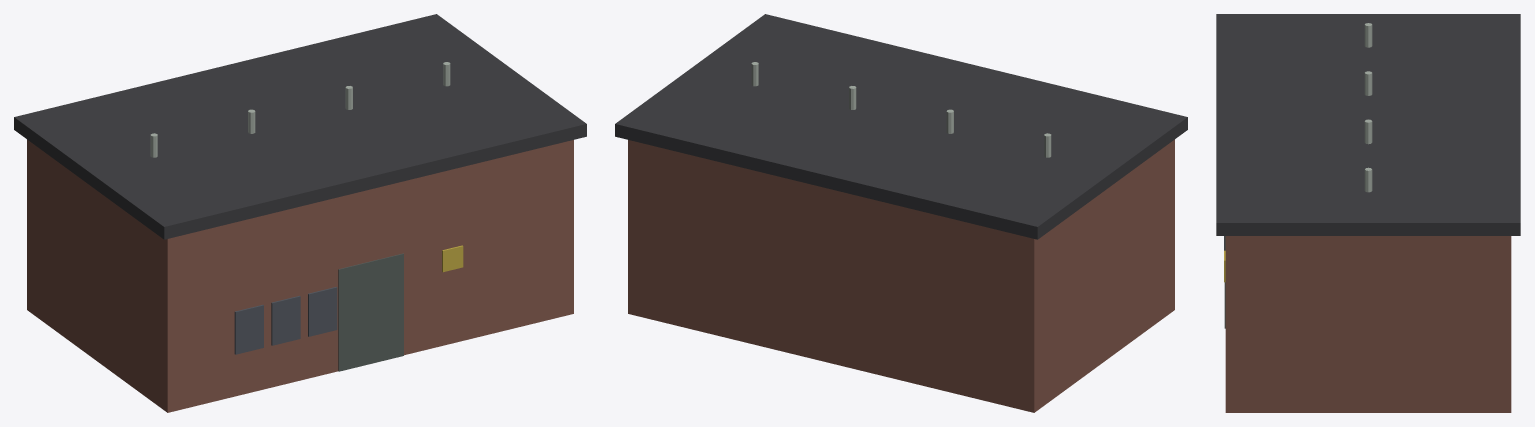
The model's file is substation.glb.
3 renders of one model, left to right at view 1: azimuth 30°, elevation 25°; view 2: azimuth 150°, elevation 25°; view 3: azimuth 270°, elevation 25°, orthographic.
Visible parts, largest first — view 1: mass, roof, door, vent.001, vent, vent.002; view 2: mass, roof; view 3: roof, mass.
Part boxes in pixels (left/top/right/bottom): mass: left=27, top=139, right=573, bottom=412; roof: left=14, top=14, right=586, bottom=239; door: left=338, top=253, right=403, bottom=371; vent.001: left=271, top=295, right=300, bottom=345; vent: left=234, top=304, right=263, bottom=354; vent.002: left=308, top=287, right=337, bottom=336; mass: left=628, top=139, right=1174, bottom=412; roof: left=615, top=14, right=1187, bottom=239; roof: left=1216, top=14, right=1520, bottom=235; mass: left=1225, top=236, right=1511, bottom=412.
Size of what is drawn, in the model's own units: 10.4 by 5 by 6.4.
